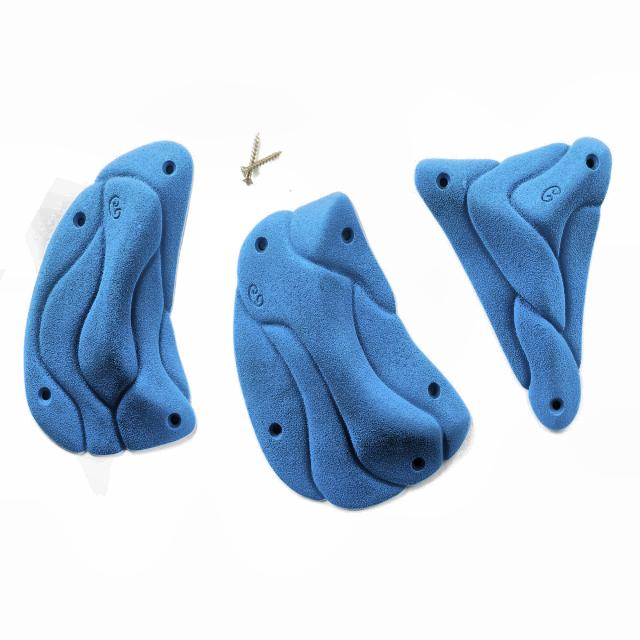Hold: (236, 196, 469, 515), (426, 135, 611, 444), (34, 137, 211, 447)
